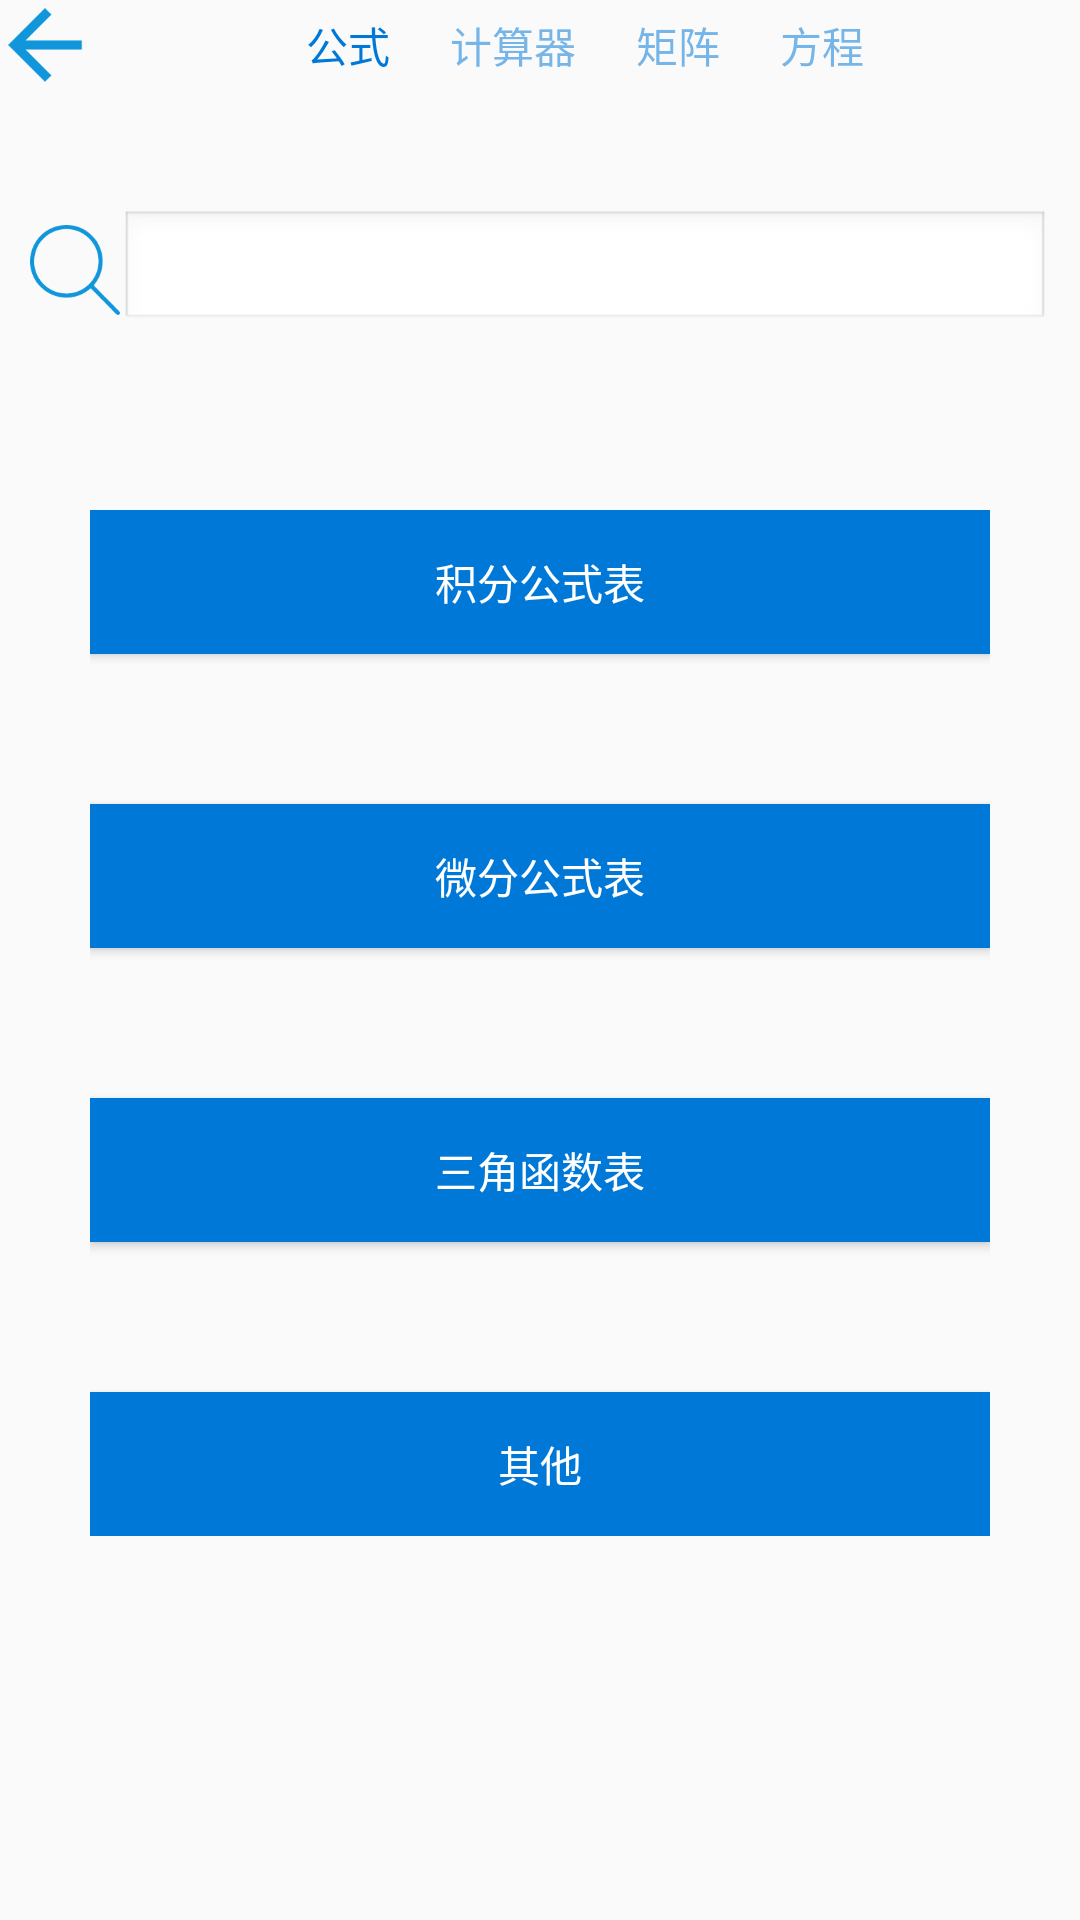

Where to tap for icons on this 1080 x 1920 app screen, as [x,y]:
back: [45,45]
search: [75,270]
